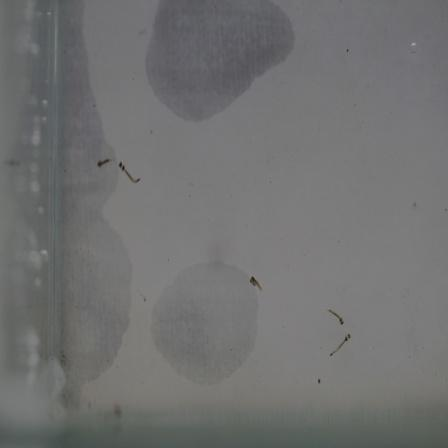Jentik-Nyamuk: (95, 153, 143, 191), (328, 331, 355, 361), (324, 304, 348, 327), (246, 274, 265, 296)
